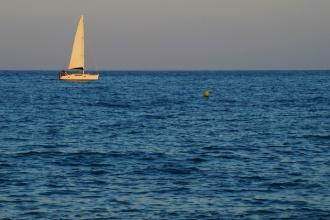fanchuan: (53, 13, 111, 81)
